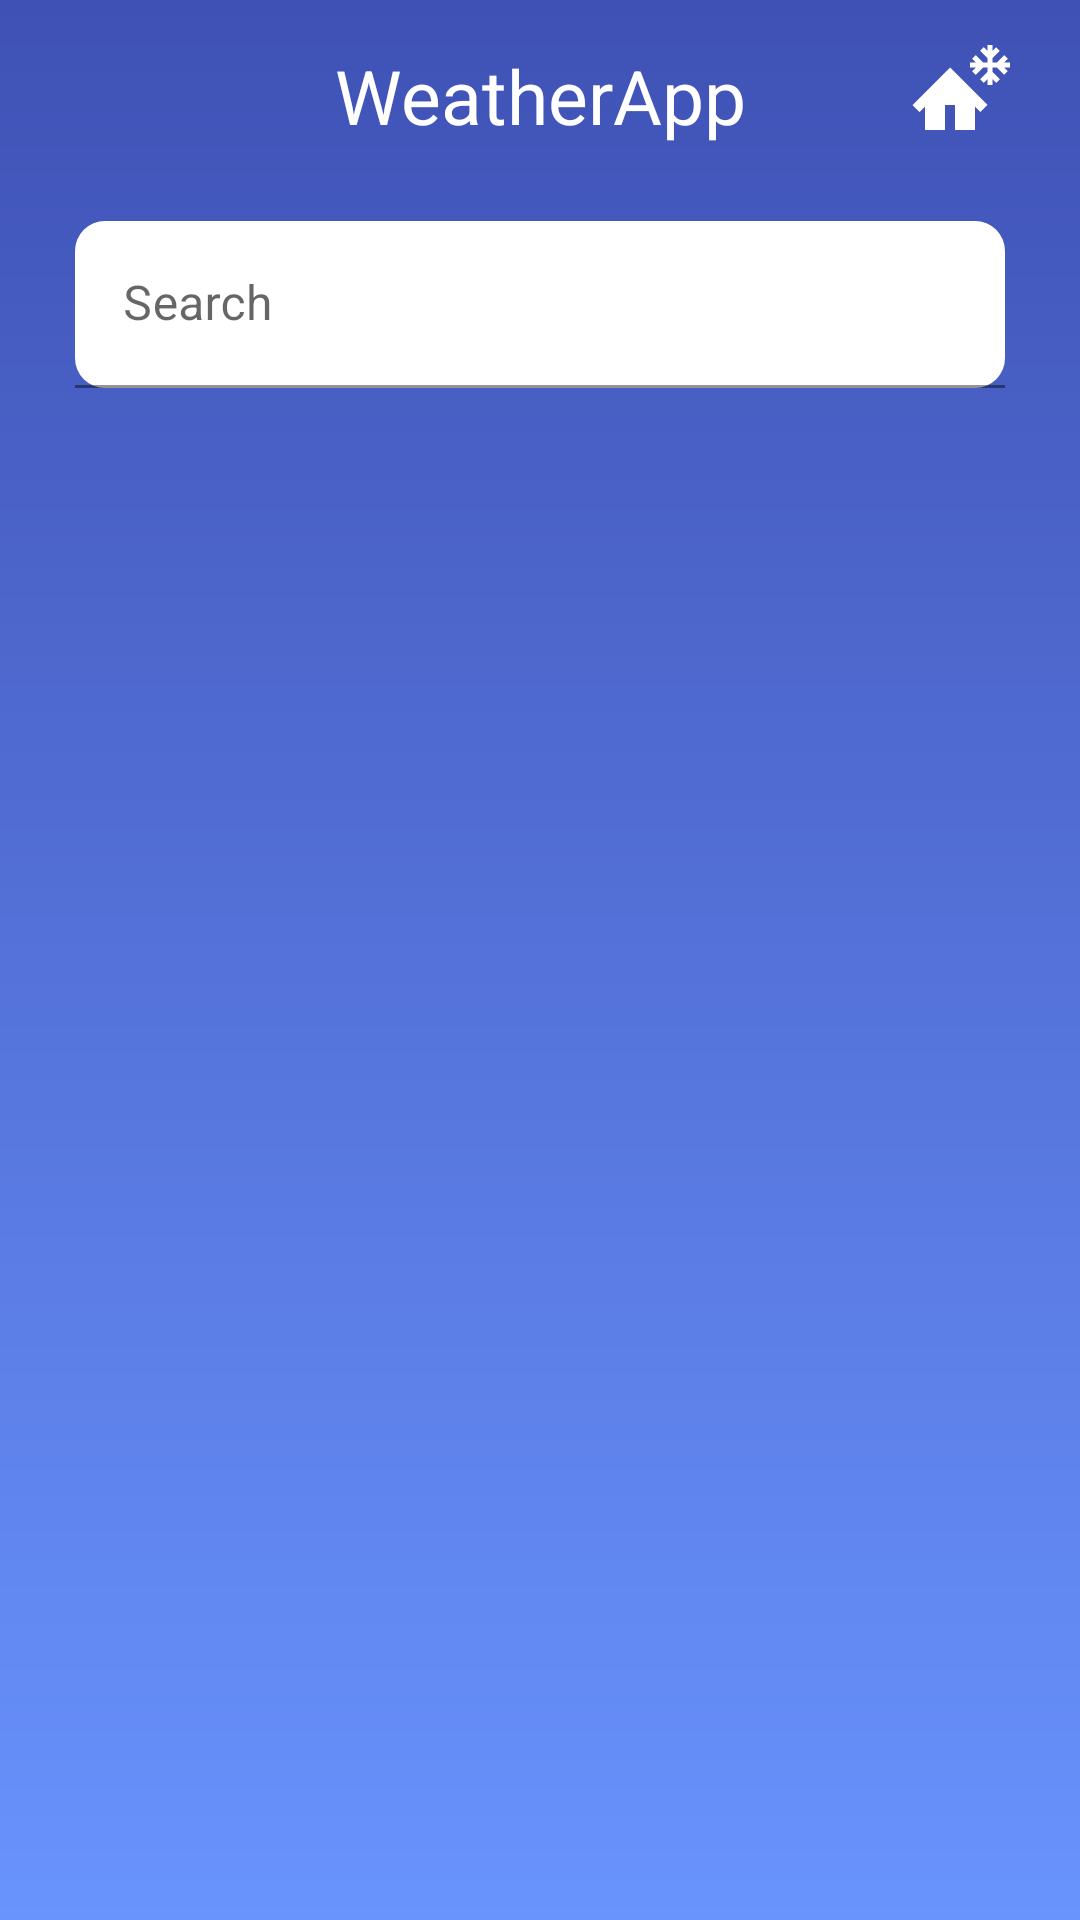

Where icons sit on this 1080x1920 app screen, as [left=x1, top=y1, right=x2, bottom=y2]:
home: [left=912, top=45, right=1010, bottom=130]
